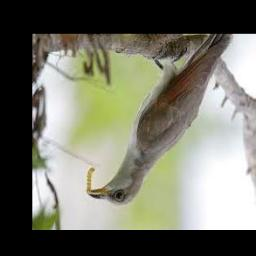Cuckoo: (88, 34, 233, 205)
